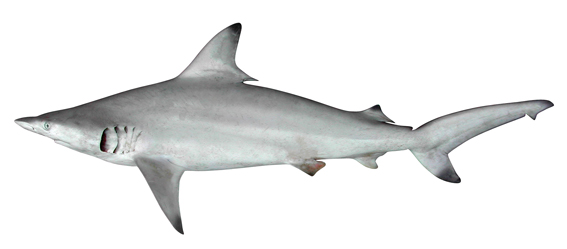fish: (14, 23, 556, 237)
